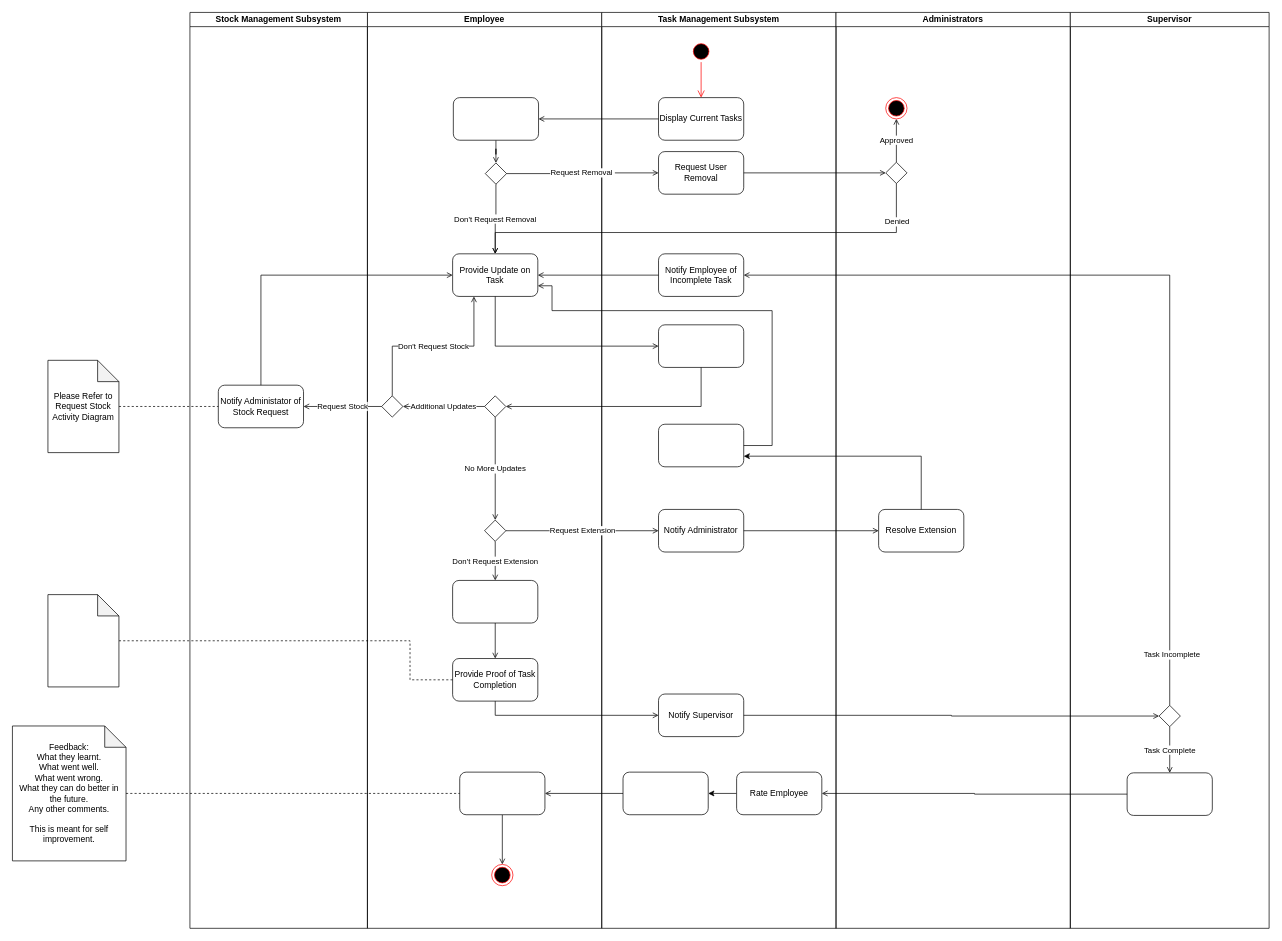
The diagram is 1282 pixels wide and 941 high, and some of its shapes have lost their labels. Each missing label, with the centre of its shape:
Click on Task: pixel 496 118
Mark Task as Complete: pixel 495 601
Notify Employee of Resolution: pixel 701 445
Notify Employee of Task Completed: pixel 665 793
Proof can be: Picture Text: pixel 83 640
Provide Feedback on Task: pixel 502 793
Sign off On Task: pixel 1169 793
Update Task Timeline: pixel 701 345
